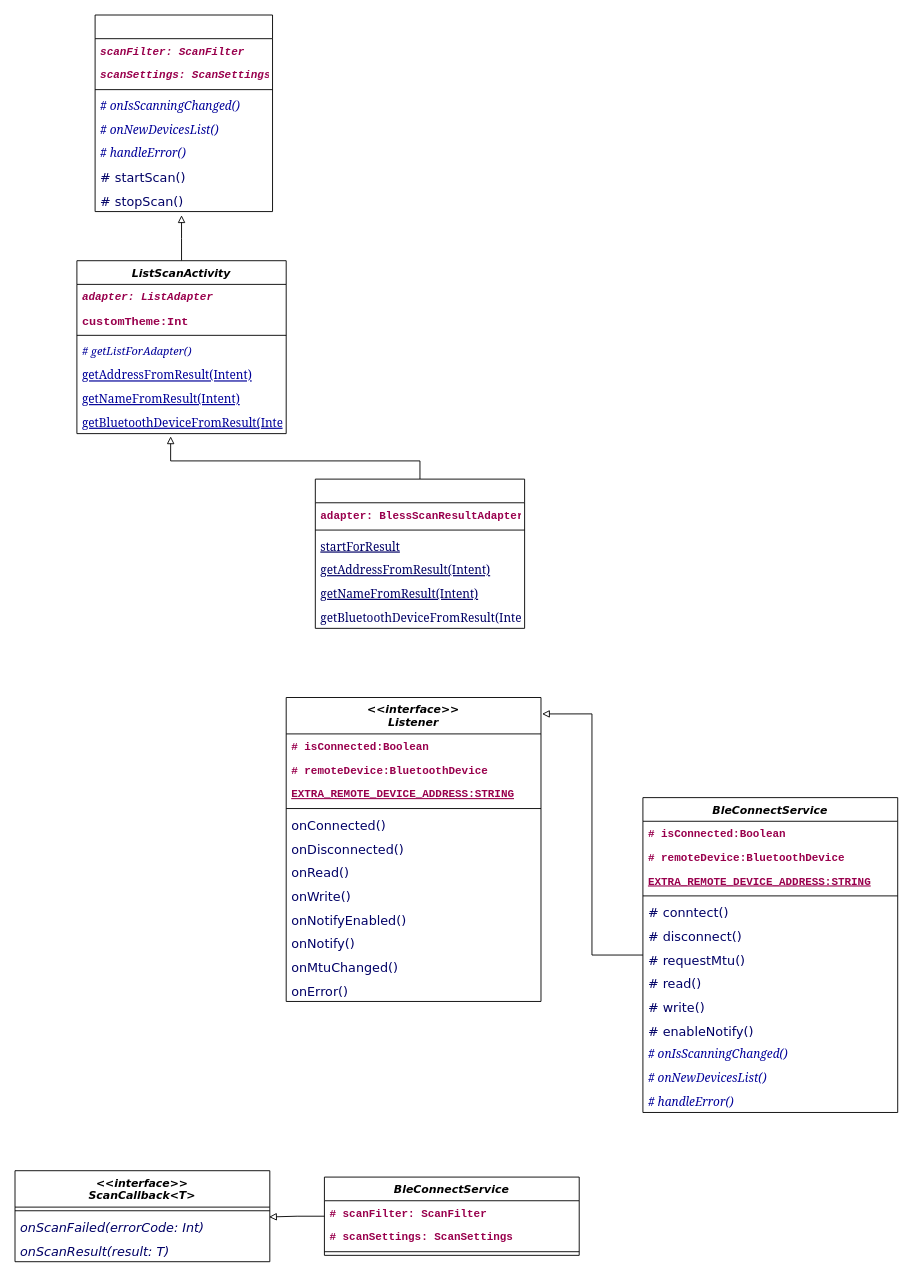
Some shapes in this 913 by 1277 pixel diagram are drawn without their labels. Here are the shapes that lost their labels. From the top down, the box of each, then its label:
(94, 14, 273, 212): ScanActivity
(314, 478, 525, 628): BlessScanActivity
